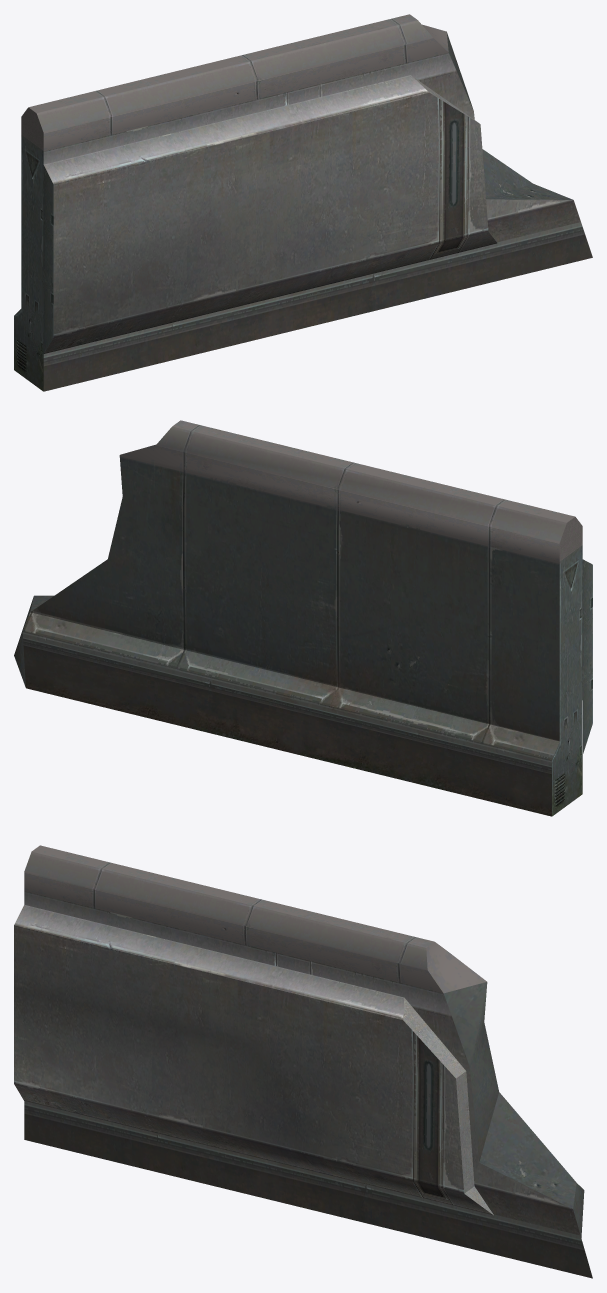
File: Cover_Qiang08.glb
The picture shows the model from 3 angles, top to bottom: view 1: azimuth 30°, elevation 25°; view 2: azimuth 150°, elevation 25°; view 3: azimuth 330°, elevation 25°; orthographic projection. The views are drawn at different scales.
Visible parts, largest first — view 1: xiutz_qiang08; view 2: xiutz_qiang08; view 3: xiutz_qiang08.
Part boxes in pixels (x1,y1,x2,y2): xiutz_qiang08: (14, 14, 592, 391); xiutz_qiang08: (14, 420, 592, 816); xiutz_qiang08: (14, 845, 592, 1278).
Size of the model in its own units: 7.2 by 3.42 by 0.8976.
Materials: 1 (1 with a texture image).
